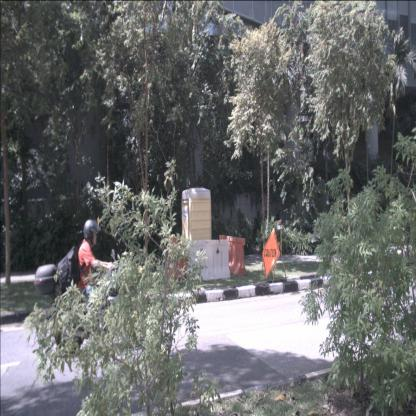barrier: (187, 240, 231, 280), (219, 235, 247, 276), (166, 237, 188, 281)
